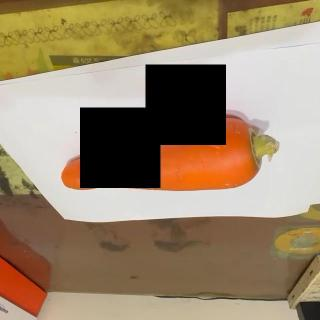carrot: (61, 116, 281, 194)
